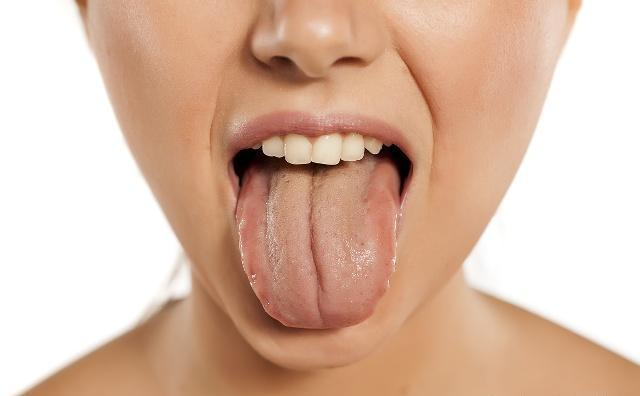baitaishe: (237, 157, 399, 329)
liewenshe: (305, 166, 326, 320)
